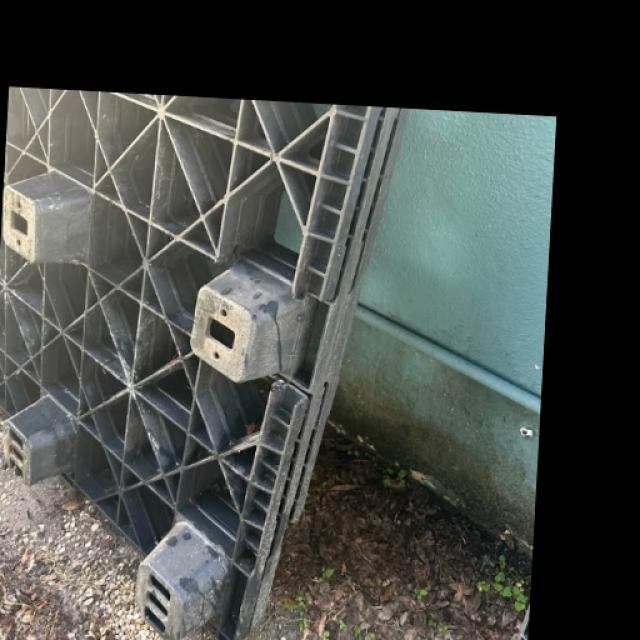non-igps: (0, 85, 416, 640)
